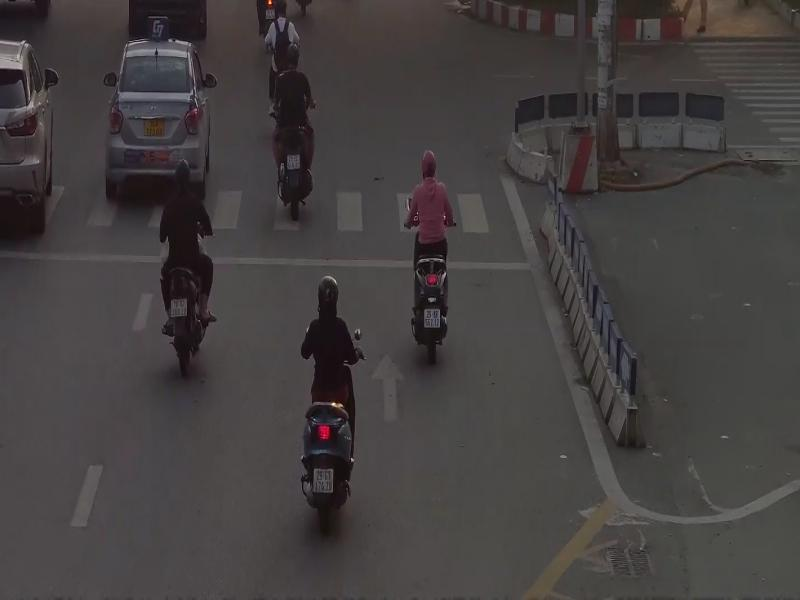helmet: (318, 276, 340, 308), (422, 148, 437, 179), (286, 41, 300, 65), (174, 160, 191, 179)
license_plate: (314, 467, 334, 493), (424, 308, 442, 330), (144, 121, 164, 138), (172, 299, 187, 317), (286, 154, 300, 170)
motorcyclist: (297, 269, 365, 536), (154, 155, 214, 386), (400, 145, 460, 365), (271, 38, 319, 224)
